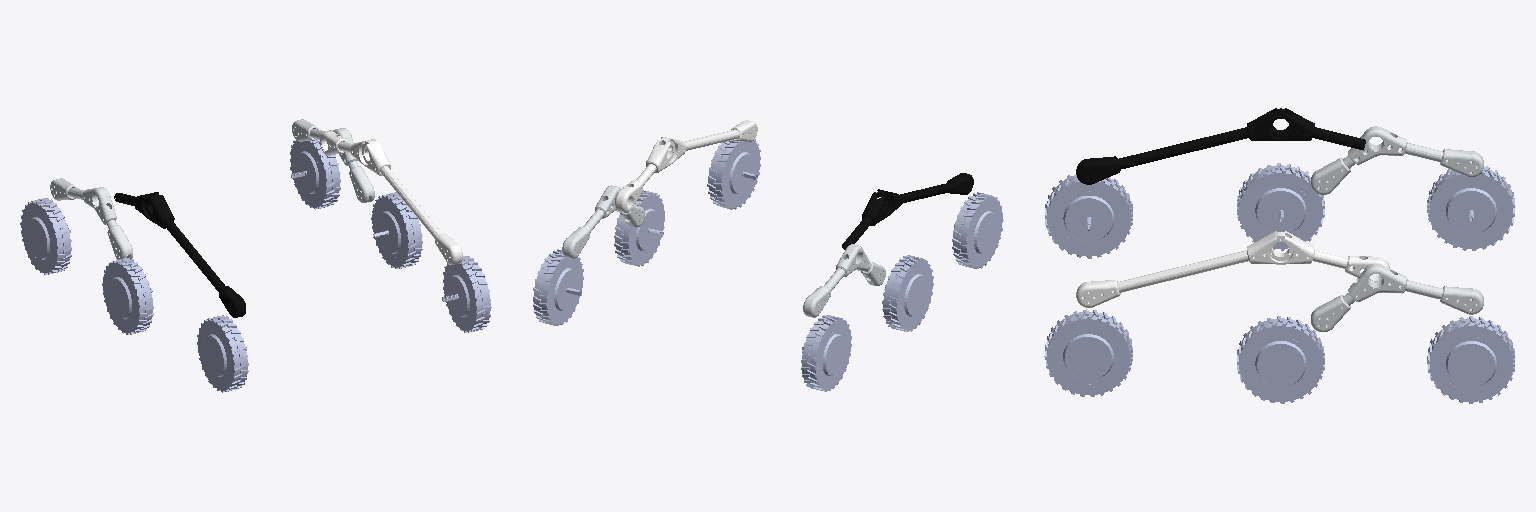
robot.urdf — mesh_test_12:
<?xml version="1.0" encoding="utf-8"?>
<!-- This URDF was automatically created by SolidWorks to URDF Exporter! Originally created by [author] ([email redacted]) 
     Commit Version: 1.6.0-4-g7f85cfe  Build Version: 1.6.7995.38578
     For more information, please see http://wiki.ros.org/sw_urdf_exporter -->
<robot
  name="mesh_test_12">
  <link
    name="chassis">
    <inertial>
      <origin
        xyz="0.0079174 -0.19192 0.11862"
        rpy="0 0 0" />
      <mass
        value="7.8336" />
      <inertia
        ixx="0.077724"
        ixy="0.00055232"
        ixz="-0.00012312"
        iyy="0.06667"
        iyz="0.0010223"
        izz="0.13451" />
    </inertial>
    <visual>
      <origin
        xyz="0 0 0"
        rpy="0 0 0" />
      <geometry>
        <mesh
          filename="package://mesh_test_12/meshes/chassis.STL" />
      </geometry>
      <material
        name="">
        <color
          rgba="0.75294 0.75294 0.75294 1" />
      </material>
    </visual>
    <collision>
      <origin
        xyz="0 0 0"
        rpy="0 0 0" />
      <geometry>
        <mesh
          filename="package://mesh_test_12/meshes/chassis.STL" />
      </geometry>
    </collision>
  </link>
  <link
    name="left_bogie_link">
    <inertial>
      <origin
        xyz="0.015875 -0.13783 -0.047232"
        rpy="0 0 0" />
      <mass
        value="0.48944" />
      <inertia
        ixx="0.0021898"
        ixy="-4.4494E-08"
        ixz="-1.4435E-08"
        iyy="0.00027856"
        iyz="-0.00036761"
        izz="0.0020183" />
    </inertial>
    <visual>
      <origin
        xyz="0 0 0"
        rpy="0 0 0" />
      <geometry>
        <mesh
          filename="package://mesh_test_12/meshes/left_bogie_link.STL" />
      </geometry>
      <material
        name="">
        <color
          rgba="0.10196 0.10196 0.10196 1" />
      </material>
    </visual>
    <collision>
      <origin
        xyz="0 0 0"
        rpy="0 0 0" />
      <geometry>
        <mesh
          filename="package://mesh_test_12/meshes/left_bogie_link.STL" />
      </geometry>
    </collision>
  </link>
  <joint
    name="left_bogie_joint"
    type="continuous">
    <origin
      xyz="-0.34589 0 -0.022225"
      rpy="0 0 0" />
    <parent
      link="chassis" />
    <child
      link="left_bogie_link" />
    <axis
      xyz="-1 0 0" />
  </joint>
  <link
    name="left_front_wheel_link">
    <inertial>
      <origin
        xyz="0.000155212043927988 -2.36124552174255E-05 4.13306403687641E-05"
        rpy="0 0 0" />
      <mass
        value="1.38515667925253" />
      <inertia
        ixx="0.00608670649414915"
        ixy="-1.51546150586869E-10"
        ixz="5.01389386245008E-08"
        iyy="0.00331734776435004"
        iyz="1.79208088841883E-11"
        izz="0.00331733123659271" />
    </inertial>
    <visual>
      <origin
        xyz="0 0 0"
        rpy="0 0 0" />
      <geometry>
        <mesh
          filename="package://mesh_test_12/meshes/left_front_wheel_link.STL" />
      </geometry>
      <material
        name="">
        <color
          rgba="0.792156862745098 0.819607843137255 0.933333333333333 1" />
      </material>
    </visual>
    <collision>
      <origin
        xyz="0 0 0"
        rpy="0 0 0" />
      <geometry>
        <mesh
          filename="package://mesh_test_12/meshes/left_front_wheel_link.STL" />
      </geometry>
    </collision>
  </link>
  <joint
    name="left_front_wheel_joint"
    type="continuous">
    <origin
      xyz="-0.026131 -0.43501 -0.2454"
      rpy="0 0 0" />
    <parent
      link="left_bogie_link" />
    <child
      link="left_front_wheel_link" />
    <axis
      xyz="1 0 0" />
  </joint>
  <link
    name="left_rocker_link">
    <inertial>
      <origin
        xyz="-4.20561563853061E-05 0.0320692844249238 -0.0458110093782014"
        rpy="0 0 0" />
      <mass
        value="0.451855581637783" />
      <inertia
        ixx="0.000557359425591044"
        ixy="3.94579138177333E-08"
        ixz="-1.73611323725284E-07"
        iyy="0.000207816779409454"
        iyz="-1.29419652457806E-05"
        izz="0.000444163243659817" />
    </inertial>
    <visual>
      <origin
        xyz="0 0 0"
        rpy="0 0 0" />
      <geometry>
        <mesh
          filename="package://mesh_test_12/meshes/left_rocker_link.STL" />
      </geometry>
      <material
        name="">
        <color
          rgba="0.898039215686275 0.917647058823529 0.929411764705882 1" />
      </material>
    </visual>
    <collision>
      <origin
        xyz="0 0 0"
        rpy="0 0 0" />
      <geometry>
        <mesh
          filename="package://mesh_test_12/meshes/left_rocker_link.STL" />
      </geometry>
    </collision>
  </link>
  <joint
    name="left_rocker_joint"
    type="continuous">
    <origin
      xyz="-0.0223501233974425 0.215899727447913 -0.0587375886680441"
      rpy="0 0 0" />
    <parent
      link="left_bogie_link" />
    <child
      link="left_rocker_link" />
    <axis
      xyz="-1 0 0" />
  </joint>
  <link
    name="left_rear_wheel_link">
    <inertial>
      <origin
        xyz="0.00011831 -5.6559E-06 -2.1325E-05"
        rpy="0 0 0" />
      <mass
        value="1.3852" />
      <inertia
        ixx="0.0060867"
        ixy="-1.3047E-10"
        ixz="5.0163E-08"
        iyy="0.0033173"
        iyz="5.842E-11"
        izz="0.0033173" />
    </inertial>
    <visual>
      <origin
        xyz="0 0 0"
        rpy="0 0 0" />
      <geometry>
        <mesh
          filename="package://mesh_test_12/meshes/left_rear_wheel_link.STL" />
      </geometry>
      <material
        name="">
        <color
          rgba="0.79216 0.81961 0.93333 1" />
      </material>
    </visual>
    <collision>
      <origin
        xyz="0 0 0"
        rpy="0 0 0" />
      <geometry>
        <mesh
          filename="package://mesh_test_12/meshes/left_rear_wheel_link.STL" />
      </geometry>
    </collision>
  </link>
  <joint
    name="left_rear_wheel_joint"
    type="continuous">
    <origin
      xyz="-0.041844 0.21591 -0.18572"
      rpy="0 0 0" />
    <parent
      link="left_rocker_link" />
    <child
      link="left_rear_wheel_link" />
    <axis
      xyz="-1 0 0" />
  </joint>
  <link
    name="left_middle_wheel_link">
    <inertial>
      <origin
        xyz="0.00011831 -6.0648E-06 -2.1149E-05"
        rpy="0 0 0" />
      <mass
        value="1.3852" />
      <inertia
        ixx="0.0060867"
        ixy="3.7938E-08"
        ixz="3.2773E-08"
        iyy="0.0033173"
        iyz="-8.2013E-09"
        izz="0.0033173" />
    </inertial>
    <visual>
      <origin
        xyz="0 0 0"
        rpy="0 0 0" />
      <geometry>
        <mesh
          filename="package://mesh_test_12/meshes/left_middle_wheel_link.STL" />
      </geometry>
      <material
        name="">
        <color
          rgba="0.79216 0.81961 0.93333 1" />
      </material>
    </visual>
    <collision>
      <origin
        xyz="0 0 0"
        rpy="0 0 0" />
      <geometry>
        <mesh
          filename="package://mesh_test_12/meshes/left_middle_wheel_link.STL" />
      </geometry>
    </collision>
  </link>
  <joint
    name="left_middle_wheel_joint"
    type="continuous">
    <origin
      xyz="-0.041844 -0.21589 -0.18572"
      rpy="0 0 0" />
    <parent
      link="left_rocker_link" />
    <child
      link="left_middle_wheel_link" />
    <axis
      xyz="-1 0 0" />
  </joint>
  <link
    name="right_bogie_link">
    <inertial>
      <origin
        xyz="0 0 0"
        rpy="0 0 0" />
      <mass
        value="0" />
      <inertia
        ixx="0"
        ixy="0"
        ixz="0"
        iyy="0"
        iyz="0"
        izz="0" />
    </inertial>
    <visual>
      <origin
        xyz="0 0 0"
        rpy="0 0 0" />
      <geometry>
        <mesh
          filename="package://mesh_test_12/meshes/right_bogie_link.STL" />
      </geometry>
      <material
        name="">
        <color
          rgba="1 1 1 1" />
      </material>
    </visual>
    <collision>
      <origin
        xyz="0 0 0"
        rpy="0 0 0" />
      <geometry>
        <mesh
          filename="package://mesh_test_12/meshes/right_bogie_link.STL" />
      </geometry>
    </collision>
  </link>
  <joint
    name="right_bogie_joint"
    type="continuous">
    <origin
      xyz="0.346075000000017 0 -0.0222249999792783"
      rpy="0 0 0" />
    <parent
      link="chassis" />
    <child
      link="right_bogie_link" />
    <axis
      xyz="-1 0 0" />
  </joint>
  <link
    name="right_rocker_link">
    <inertial>
      <origin
        xyz="4.20751756289306E-05 0.0320692797825197 -0.0458110120936045"
        rpy="0 0 0" />
      <mass
        value="0.451855561191559" />
      <inertia
        ixx="0.000557359394151881"
        ixy="-3.90638921000188E-08"
        ixz="1.73581089366397E-07"
        iyy="0.000207816780451024"
        iyz="-1.29419748686903E-05"
        izz="0.000444163205151771" />
    </inertial>
    <visual>
      <origin
        xyz="0 0 0"
        rpy="0 0 0" />
      <geometry>
        <mesh
          filename="package://mesh_test_12/meshes/right_rocker_link.STL" />
      </geometry>
      <material
        name="">
        <color
          rgba="0.898039215686275 0.917647058823529 0.929411764705882 1" />
      </material>
    </visual>
    <collision>
      <origin
        xyz="0 0 0"
        rpy="0 0 0" />
      <geometry>
        <mesh
          filename="package://mesh_test_12/meshes/right_rocker_link.STL" />
      </geometry>
    </collision>
  </link>
  <joint
    name="right_rocker_joint"
    type="continuous">
    <origin
      xyz="0.022224999999983 0.215899999971175 -0.0587375000128591"
      rpy="0 0 0" />
    <parent
      link="right_bogie_link" />
    <child
      link="right_rocker_link" />
    <axis
      xyz="-1 0 0" />
  </joint>
  <link
    name="right_middle_wheel_link">
    <inertial>
      <origin
        xyz="-0.000136764013834112 -4.17413270043845E-07 -3.58308653414241E-07"
        rpy="0 0 0" />
      <mass
        value="1.38515667925641" />
      <inertia
        ixx="0.00608670649415985"
        ixy="-3.81060675117107E-08"
        ixz="-3.26231551854187E-08"
        iyy="0.00331733827450242"
        iyz="-8.43766950773987E-09"
        izz="0.00331734072645102" />
    </inertial>
    <visual>
      <origin
        xyz="0 0 0"
        rpy="0 0 0" />
      <geometry>
        <mesh
          filename="package://mesh_test_12/meshes/right_middle_wheel_link.STL" />
      </geometry>
      <material
        name="">
        <color
          rgba="0.792156862745098 0.819607843137255 0.933333333333333 1" />
      </material>
    </visual>
    <collision>
      <origin
        xyz="0 0 0"
        rpy="0 0 0" />
      <geometry>
        <mesh
          filename="package://mesh_test_12/meshes/right_middle_wheel_link.STL" />
      </geometry>
    </collision>
  </link>
  <joint
    name="right_middle_wheel_joint"
    type="continuous">
    <origin
      xyz="0.041863 -0.2159 -0.18574"
      rpy="0 0 0" />
    <parent
      link="right_rocker_link" />
    <child
      link="right_middle_wheel_link" />
    <axis
      xyz="1 0 0" />
  </joint>
  <link
    name="right_rear_wheel_link">
    <inertial>
      <origin
        xyz="-0.000136764013806079 -3.97276728181239E-09 -5.47524751814965E-07"
        rpy="0 0 0" />
      <mass
        value="1.38515667925022" />
      <inertia
        ixx="0.00608670649414288"
        ixy="-1.51613486823585E-10"
        ixz="-5.0138297667682E-08"
        iyy="0.00331734776436555"
        iyz="-1.68192191724776E-11"
        izz="0.00331733123657076" />
    </inertial>
    <visual>
      <origin
        xyz="0 0 0"
        rpy="0 0 0" />
      <geometry>
        <mesh
          filename="package://mesh_test_12/meshes/right_rear_wheel_link.STL" />
      </geometry>
      <material
        name="">
        <color
          rgba="0.792156862745098 0.819607843137255 0.933333333333333 1" />
      </material>
    </visual>
    <collision>
      <origin
        xyz="0 0 0"
        rpy="0 0 0" />
      <geometry>
        <mesh
          filename="package://mesh_test_12/meshes/right_rear_wheel_link.STL" />
      </geometry>
    </collision>
  </link>
  <joint
    name="right_rear_wheel_joint"
    type="continuous">
    <origin
      xyz="0.041863 0.2159 -0.18574"
      rpy="0 0 0" />
    <parent
      link="right_rocker_link" />
    <child
      link="right_rear_wheel_link" />
    <axis
      xyz="1 0 0" />
  </joint>
  <link
    name="right_front_wheel_link">
    <inertial>
      <origin
        xyz="-0.000118164933657405 5.50144876632075E-06 -1.77910473420084E-06"
        rpy="0 0 0" />
      <mass
        value="1.38515666192677" />
      <inertia
        ixx="0.00608043301185015"
        ixy="-0.000128488906642026"
        ixz="2.8718884613149E-05"
        iyy="0.00332332272916639"
        iyz="-1.33545971335827E-06"
        izz="0.00331762969863137" />
    </inertial>
    <visual>
      <origin
        xyz="0 0 0"
        rpy="0 0 0" />
      <geometry>
        <mesh
          filename="package://mesh_test_12/meshes/right_front_wheel_link.STL" />
      </geometry>
      <material
        name="">
        <color
          rgba="0.792156862745098 0.819607843137255 0.933333333333333 1" />
      </material>
    </visual>
    <collision>
      <origin
        xyz="0 0 0"
        rpy="0 0 0" />
      <geometry>
        <mesh
          filename="package://mesh_test_12/meshes/right_front_wheel_link.STL" />
      </geometry>
    </collision>
  </link>
  <joint
    name="right_front_wheel_joint"
    type="continuous">
    <origin
      xyz="0.0259691526115853 -0.435038958244363 -0.245355896930363"
      rpy="0 0 0" />
    <parent
      link="right_bogie_link" />
    <child
      link="right_front_wheel_link" />
    <axis
      xyz="0.998866512608211 -0.0464492112056646 0.010400036936535" />
  </joint>
</robot>

--- Render facts (derived) ---
3 views of the same robot in one strip: view 1: azimuth 30°, elevation 25°; view 2: azimuth 150°, elevation 25°; view 3: azimuth 270°, elevation 25° (orthographic).
Model mesh_test_12 with 11 links and 10 joints (10 continuous), rooted at chassis, posed every joint at zero.
Links seen in each view (by area): view 1: left_front_wheel_link, left_middle_wheel_link, left_rear_wheel_link, right_middle_wheel_link, right_bogie_link, right_front_wheel_link, right_rear_wheel_link, left_bogie_link, left_rocker_link, right_rocker_link; view 2: left_front_wheel_link, left_middle_wheel_link, left_rear_wheel_link, right_front_wheel_link, right_rear_wheel_link, right_bogie_link, right_middle_wheel_link, left_bogie_link, left_rocker_link, right_rocker_link; view 3: right_middle_wheel_link, right_front_wheel_link, right_rear_wheel_link, left_rear_wheel_link, left_front_wheel_link, left_middle_wheel_link, right_bogie_link, left_bogie_link, right_rocker_link, left_rocker_link.
Boxes of the visible links, x1,y1,x2,y2 form: left_front_wheel_link: (197,315,248,392); left_middle_wheel_link: (102,258,153,334); left_rear_wheel_link: (20,198,71,274); right_middle_wheel_link: (371,192,422,268); right_bogie_link: (320,131,462,264); right_front_wheel_link: (442,256,491,332); right_rear_wheel_link: (290,139,340,209); left_bogie_link: (114,192,245,317); left_rocker_link: (50,178,132,259); right_rocker_link: (292,119,374,202); left_front_wheel_link: (952,192,1003,268); left_middle_wheel_link: (882,255,933,331); left_rear_wheel_link: (801,315,851,391); right_front_wheel_link: (707,139,760,209); right_rear_wheel_link: (533,249,583,325); right_bogie_link: (615,120,757,212); right_middle_wheel_link: (614,190,664,266); left_bogie_link: (842,173,973,249); left_rocker_link: (803,244,885,317); right_rocker_link: (562,185,644,258); right_middle_wheel_link: (1237,316,1324,403); right_front_wheel_link: (1044,309,1132,396); right_rear_wheel_link: (1427,316,1515,403); left_rear_wheel_link: (1427,166,1515,250); left_front_wheel_link: (1045,175,1132,258); left_middle_wheel_link: (1237,163,1324,250); right_bogie_link: (1076,231,1389,307); left_bogie_link: (1076,108,1365,184); right_rocker_link: (1311,264,1483,331); left_rocker_link: (1311,126,1483,194).
Size in the robot's own frame: 0.8763 by 1.07 by 0.3804 metres.
Meshes: 11 distinct files referenced, 10 mesh visuals loaded (10 binary STL); not drawn: 1 (reference not matched to a file when rendering).